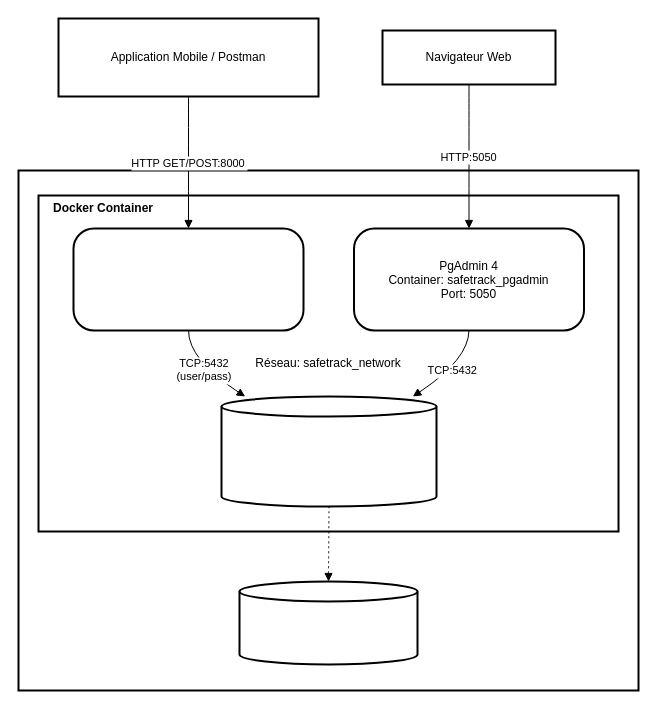
The diagram is 656 pixels wide and 708 high, and some of its shapes have lost their labels. Each missing label, with the centre of its shape:
FastAPI API Container: safetrack_backend Port: 8000: (x=188, y=279)
PostgreSQL Container: safetrack_db Port: 5432: (x=328, y=451)
Volume: postgres_data: (x=328, y=622)
